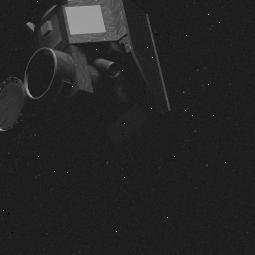cheops: (0, 0, 179, 156)
